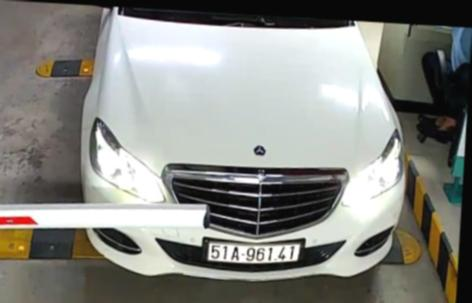License_Plate: (206, 237, 304, 268)
